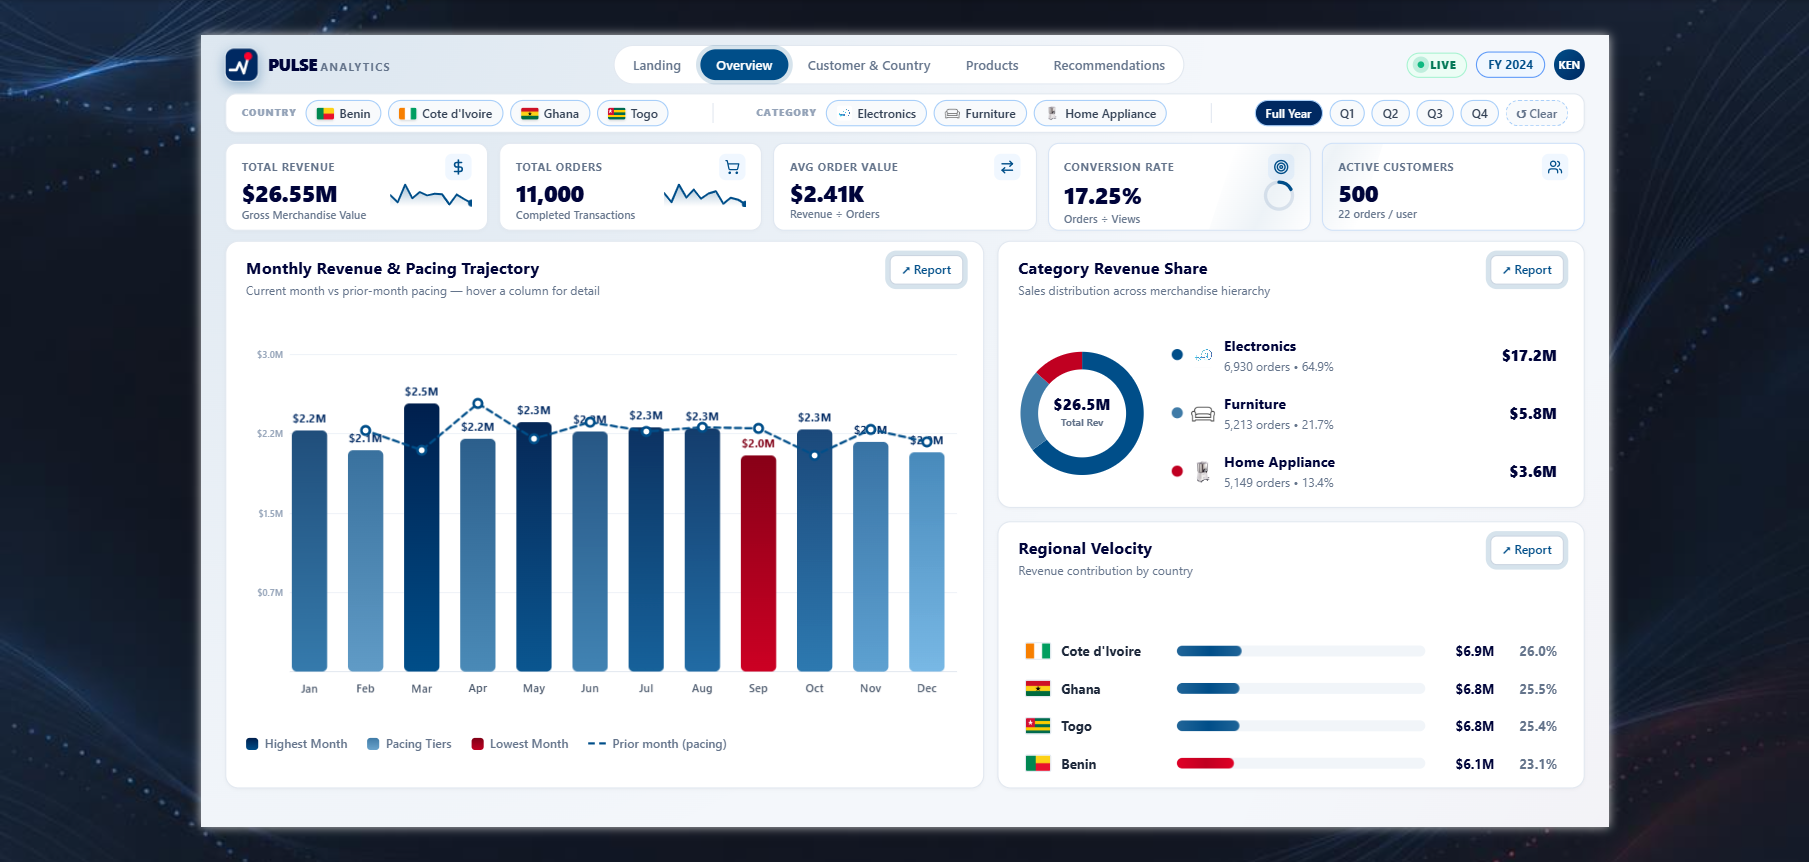

What the dashboard file says about the page in this screenshot:
{"tool":"powerbi","page":{"name":"Overview Page","canvas":[1280,720],"ordinal":1},"visuals":[{"type":"htmlContent443BE3AD55E043BF878BED274D3A6855","fields":{"content":["HTML_Visuals.Overview_Page"]},"box":[0,0,1280,720],"z":0}]}

Visuals, with their boxes on the page's 1280x720 design canvas (x1, y1, x2, y2). These are canvas units, not pixel positions in the 1809x862 screenshot, which may show the page scaled, cropped or inside an application window:
htmlContent443BE3AD55E043BF878BED274D3A6855 - HTML_Visuals.Overview_Page: [0, 0, 1280, 720]
